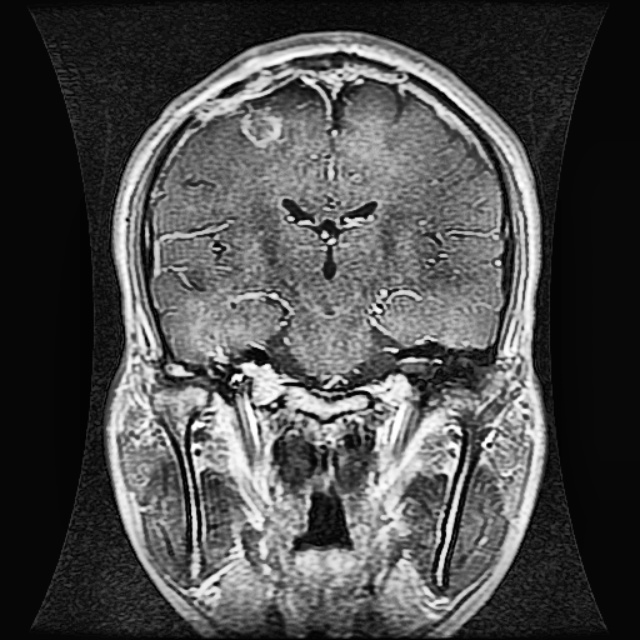Meningioma: (237, 99, 287, 149)
